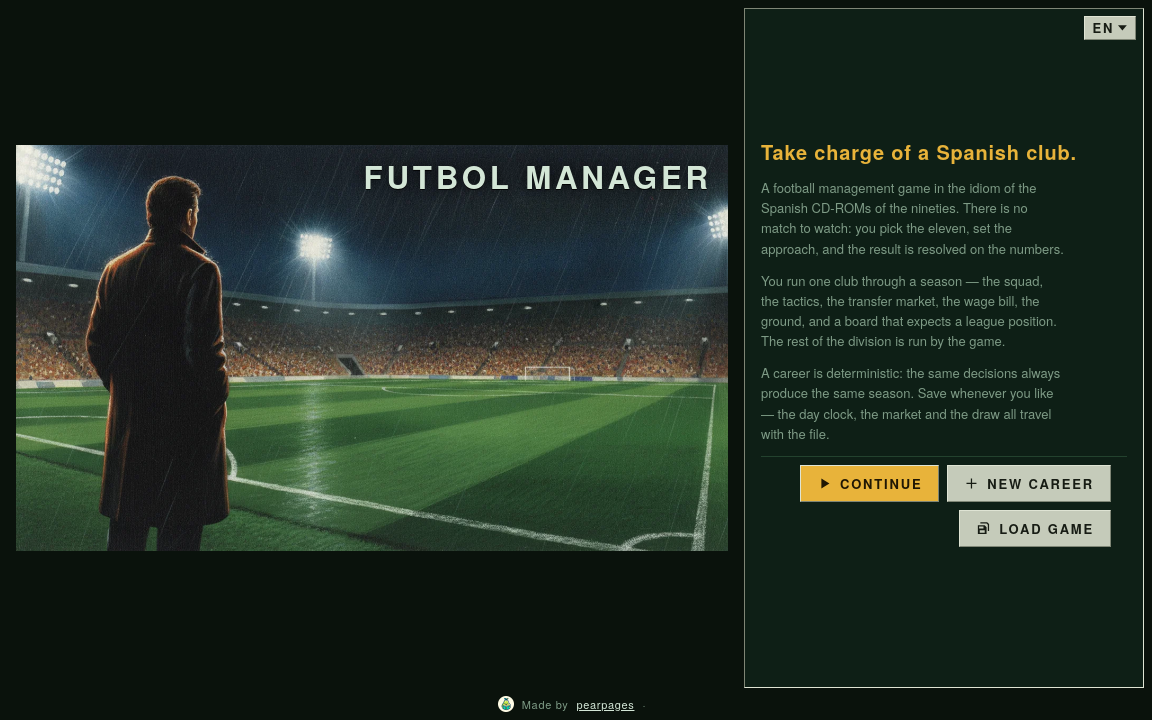
Test: the front door › goes Continue → straight back into the career that was already there
Click the button "Continue" at (870, 483), box [800,465,939,502]
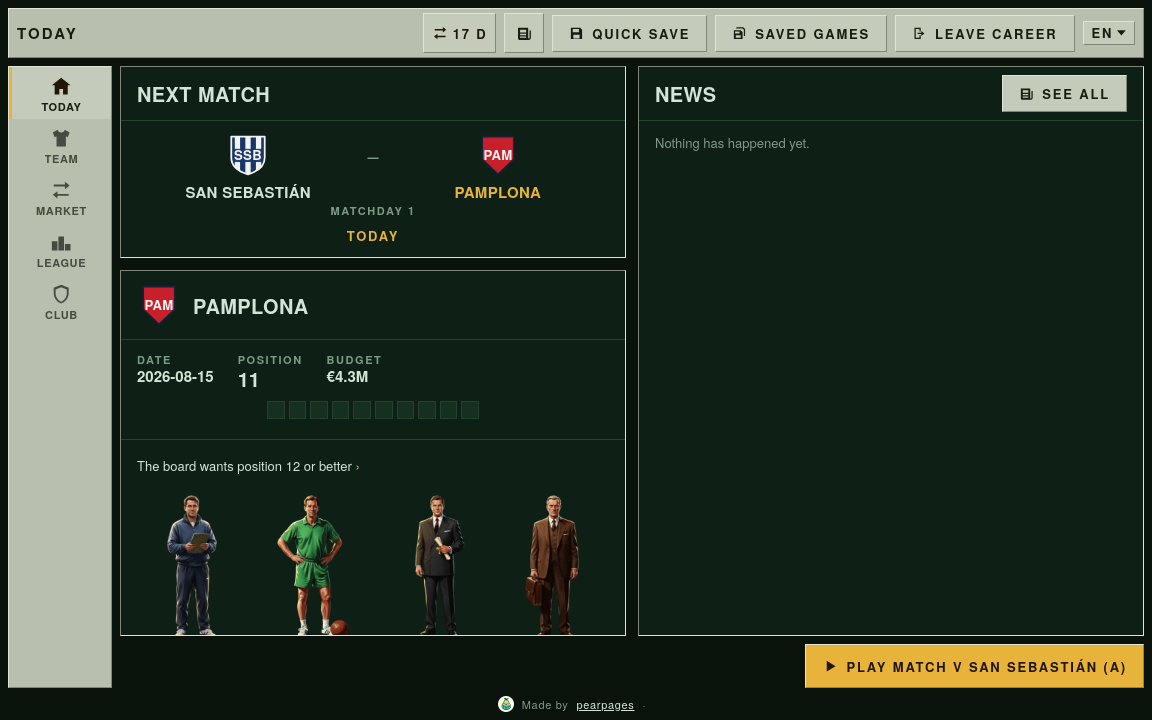
Result: the heading "Today" is shown at [17,22,78,44]
